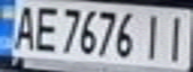6: (115, 8, 142, 60), (75, 6, 100, 56)
7: (93, 7, 118, 57), (57, 4, 81, 55)
A: (9, 1, 39, 52)
E: (30, 1, 60, 53)
I: (160, 11, 193, 63), (139, 10, 169, 61)
